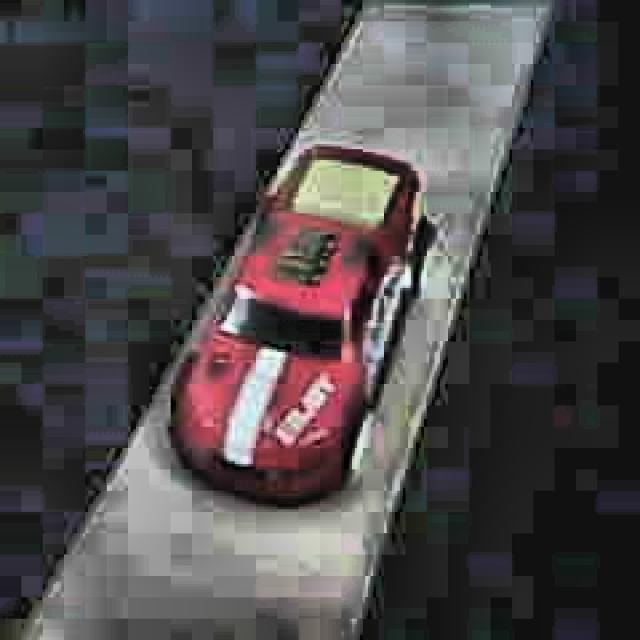car: (166, 141, 438, 514)
